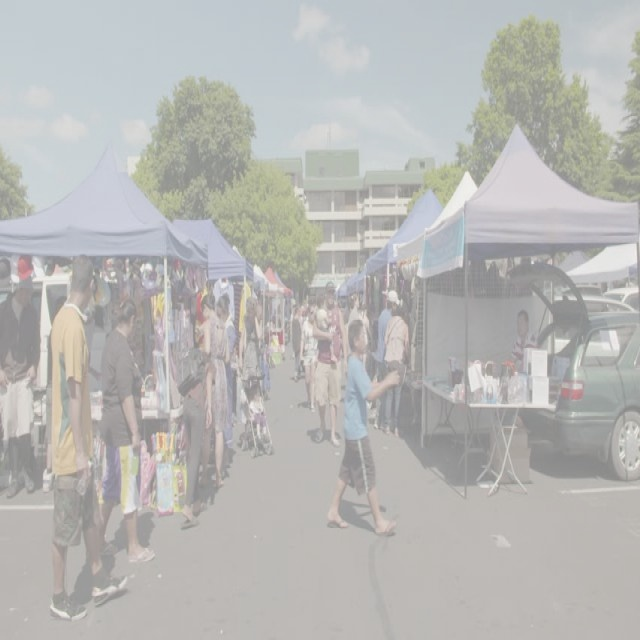pessoa: (46, 249, 132, 624), (325, 316, 401, 538), (96, 298, 156, 566), (0, 264, 44, 502), (174, 342, 218, 532), (308, 278, 350, 448), (198, 292, 230, 491), (41, 294, 69, 496), (214, 290, 237, 470), (381, 304, 411, 439), (374, 288, 401, 432), (240, 292, 264, 436), (298, 301, 321, 415), (309, 290, 339, 366), (510, 308, 537, 372), (227, 337, 245, 427), (346, 292, 368, 360), (248, 384, 270, 447), (290, 304, 302, 383), (254, 303, 264, 393), (337, 290, 350, 354), (356, 299, 372, 342), (289, 304, 298, 360), (296, 298, 308, 324), (388, 298, 401, 318), (308, 294, 317, 306)
